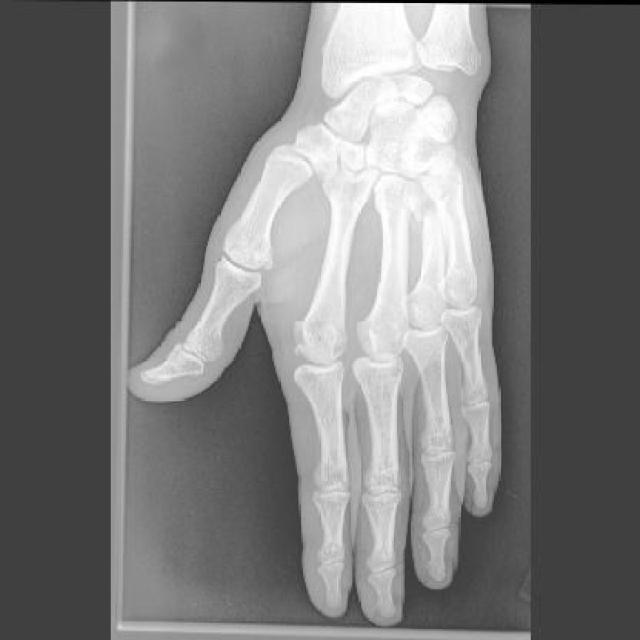Fracture: (412, 191, 451, 231)
